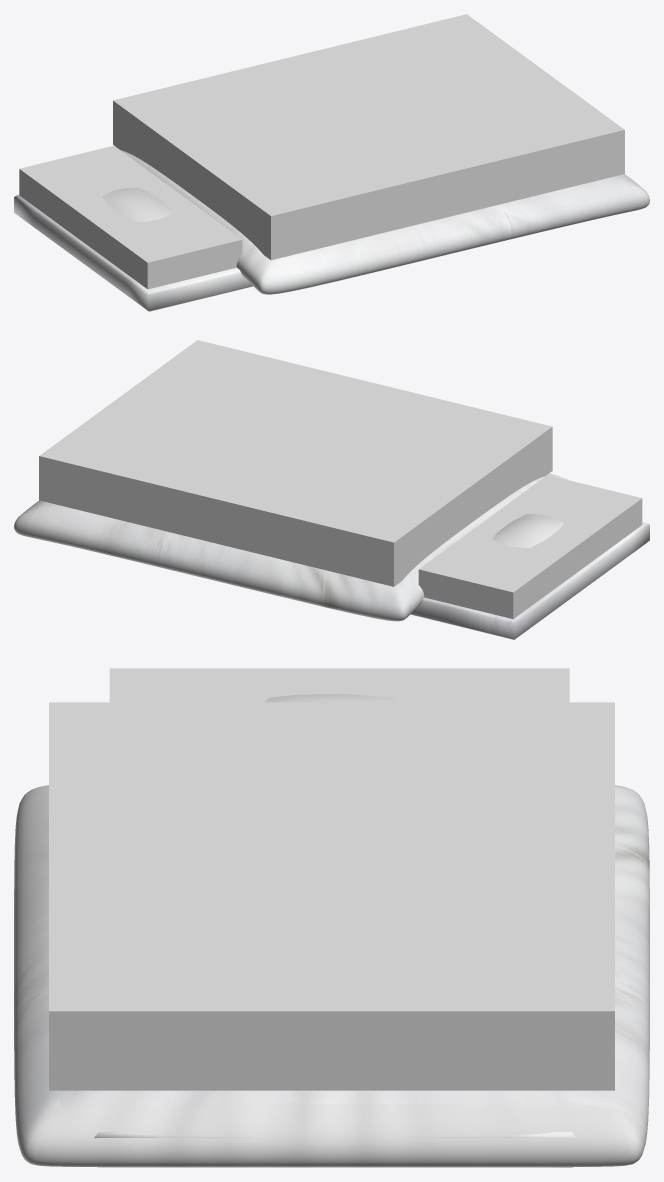
The model's file is furniture1.glb.
3 renders of one model, top to bottom at view 1: azimuth 30°, elevation 25°; view 2: azimuth 150°, elevation 25°; view 3: azimuth 270°, elevation 25°, orthographic. The views are drawn at different scales.
Visible parts, largest first — view 1: Cube_mount, Cube_coll, futon3_pick_ground, base; view 2: Cube_mount, Cube_coll, futon3_pick_ground, base; view 3: Cube_mount, futon3_pick_ground, Cube_coll, base.
Part boxes in pixels (x1,y1,x2,y2): Cube_mount: (113, 14, 624, 260); Cube_coll: (19, 145, 242, 289); futon3_pick_ground: (116, 147, 649, 294); base: (14, 187, 253, 311); Cube_mount: (39, 340, 552, 586); Cube_coll: (418, 475, 642, 619); futon3_pick_ground: (14, 473, 567, 621); base: (35, 502, 649, 639); Cube_mount: (49, 702, 614, 1090); futon3_pick_ground: (14, 785, 649, 1167); Cube_coll: (109, 668, 569, 702); base: (94, 694, 576, 1167).
Size of the model in its own units: 2.03 by 0.3171 by 1.29.
Materials: 2 (2 with a texture image).
